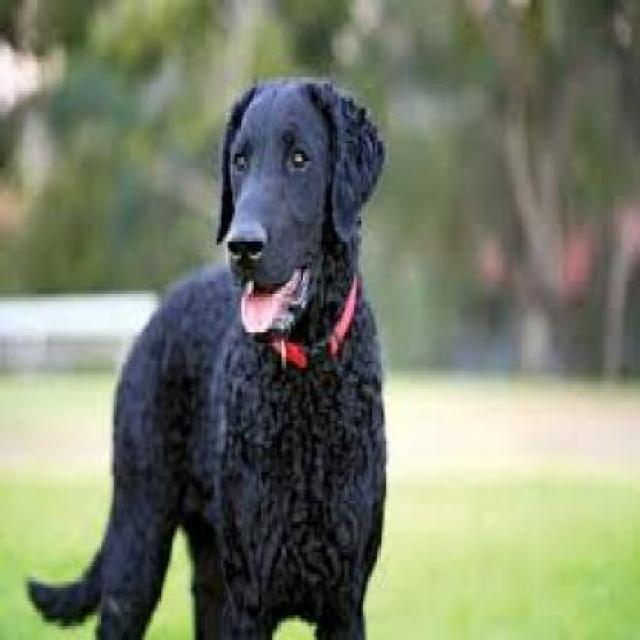animals: (48, 71, 400, 640)
